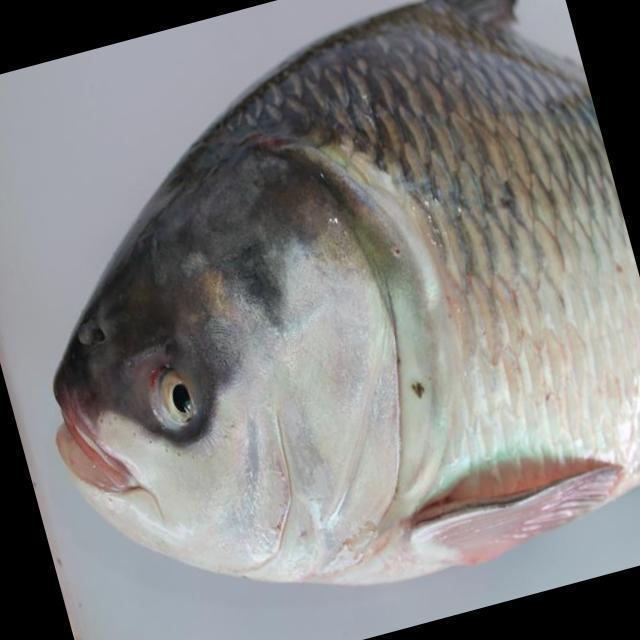Indian Carp: (47, 0, 640, 595)
